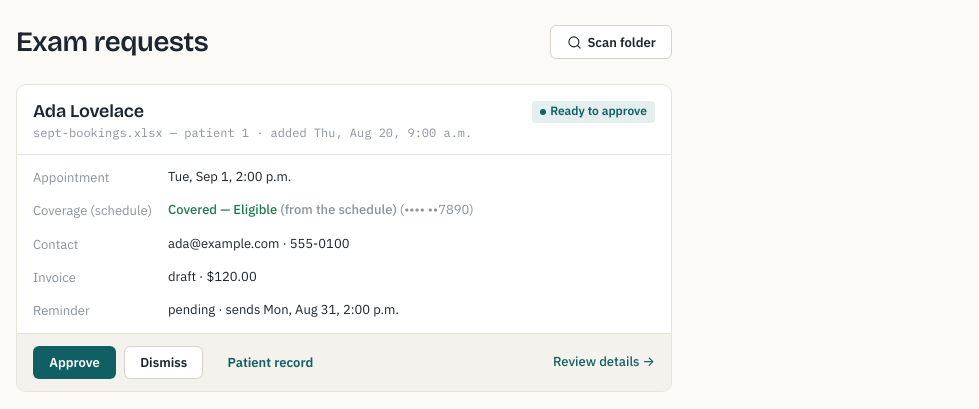
Test: Inbox › surfaces an invoice failure rather than reporting plain success
Click the button "Approve".
click(74, 362)  # box [33, 346, 116, 379]
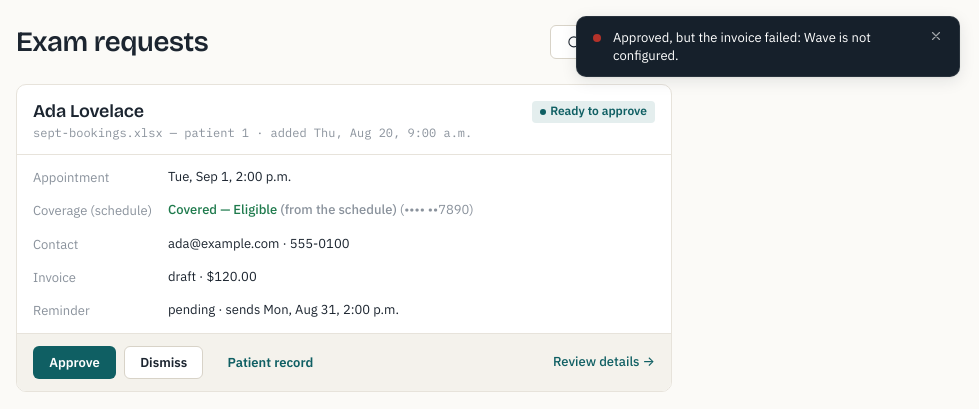
Check: the text "Approved, but the invoice failed: Wave is not configured." is shown, box [613, 29, 915, 64]
